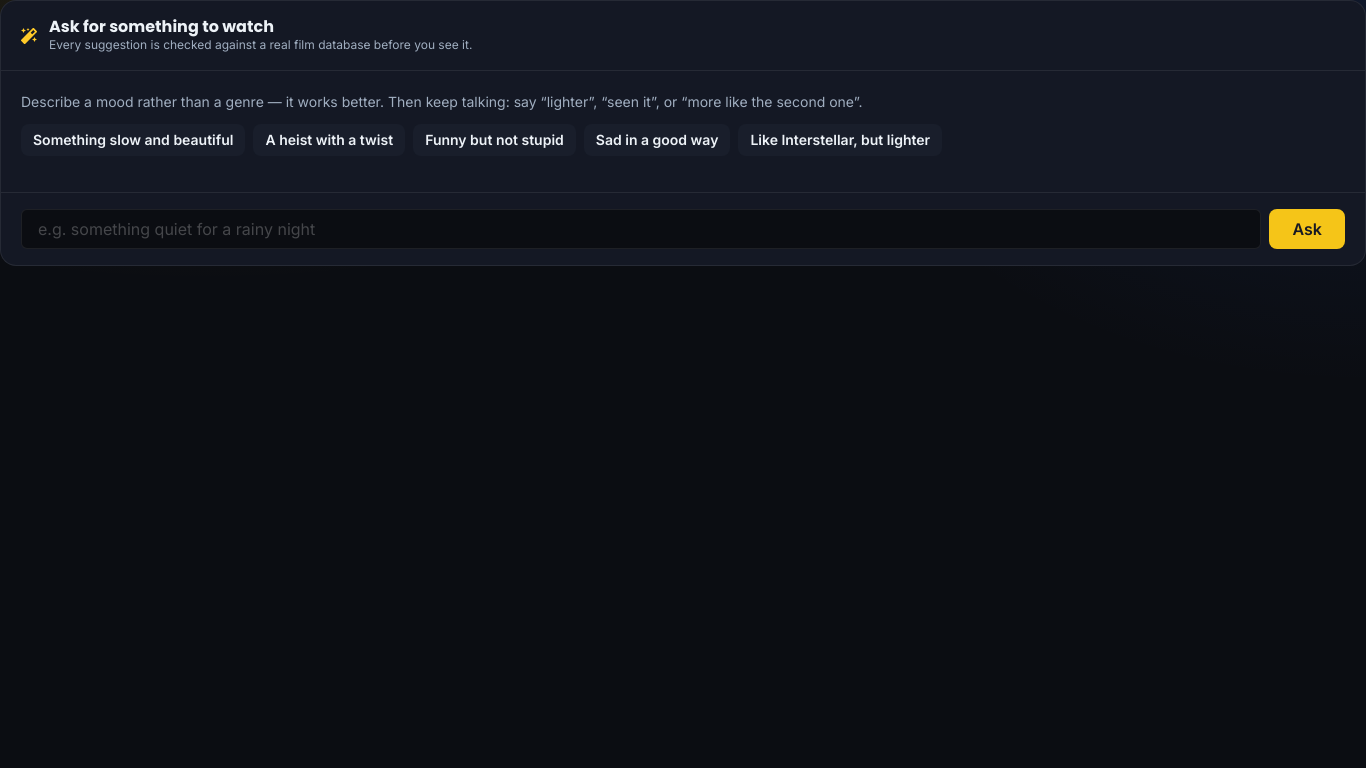
the recommendation conversation › says how many suggestions were dropped for not existing
Click the button "Something slow and beautiful".
click(133, 140)  # box [21,124,245,156]
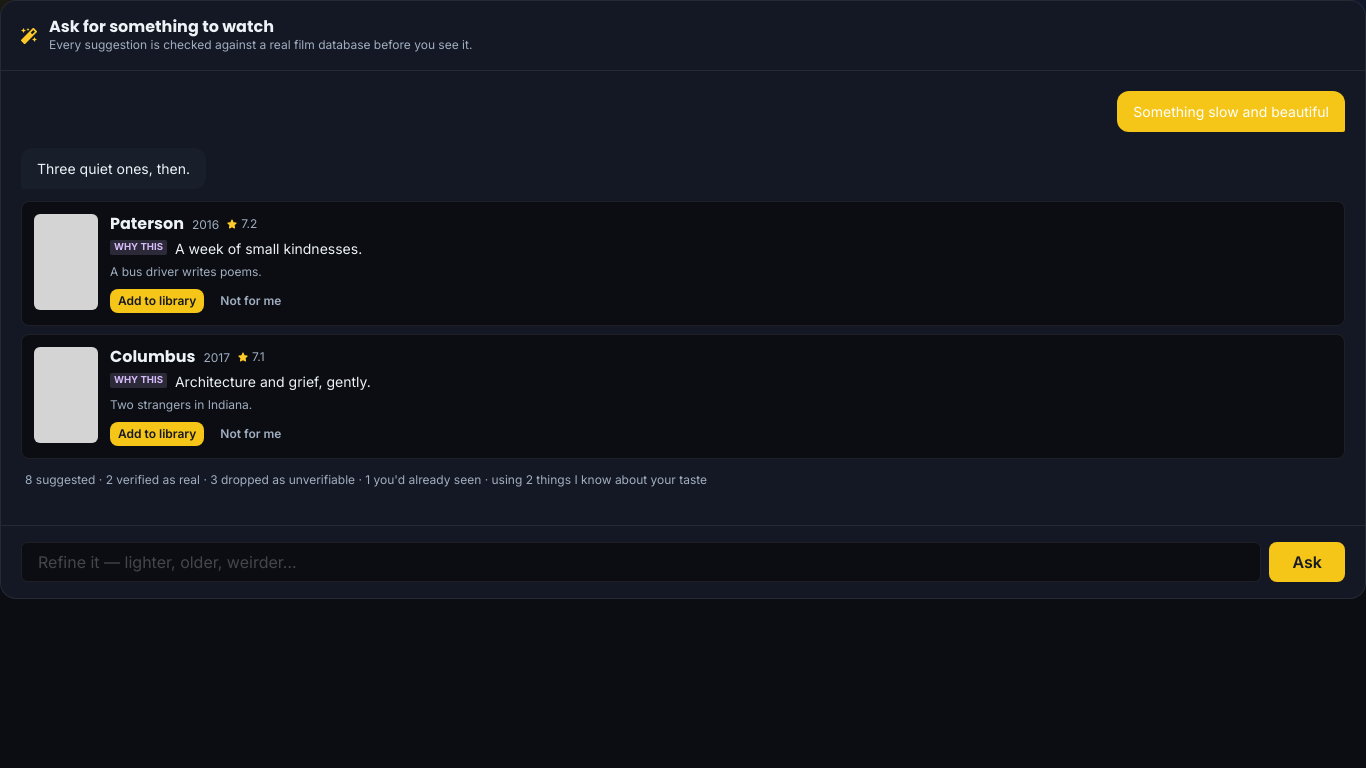
Now the text "8 suggested" shows "2 verified as real", box [25,472,707,487]
Now the text "8 suggested" shows "3 dropped as unverifiable", box [200,472,355,487]
Now the text "8 suggested" shows "1 you'd already seen", box [355,472,481,487]
